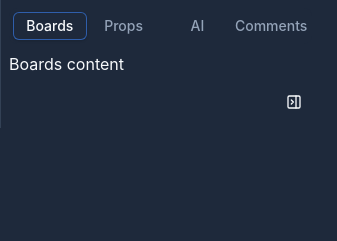
Test: Right panel collapse › expands panel when expand is clicked from collapsed rail
Click the button with test id "sidebar-collapse" at (294, 102), box top-left (276, 84), bottom-right (312, 120)
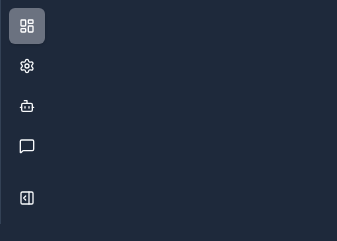
Expected: the element with test id "sidebar" is collapsed, top-left (0, 0), bottom-right (56, 224)
Click the button with test id "sidebar-expand" at (27, 198), box top-left (9, 180), bottom-right (45, 216)
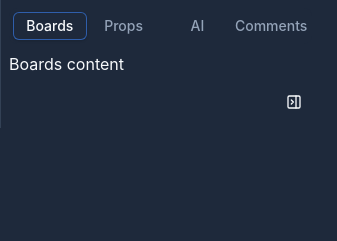
Expected: the element with test id "sidebar" is expanded, top-left (0, 0), bottom-right (320, 128)
Expected: the button with test id "sidebar-collapse" is shown, top-left (276, 84), bottom-right (312, 120)
